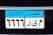6: (20, 18, 24, 27), (11, 19, 15, 26), (16, 18, 19, 27), (7, 19, 10, 27)
meem: (38, 19, 43, 28)
